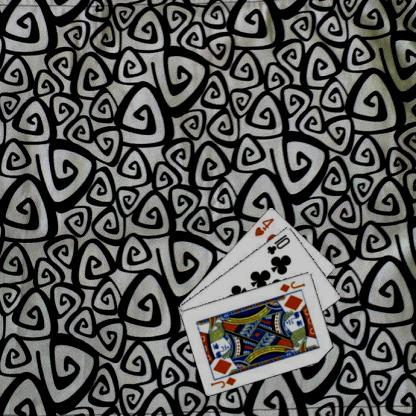10C: (264, 232, 291, 256)
4H: (252, 215, 275, 238)
JD: (277, 278, 306, 294), (208, 374, 238, 389)
